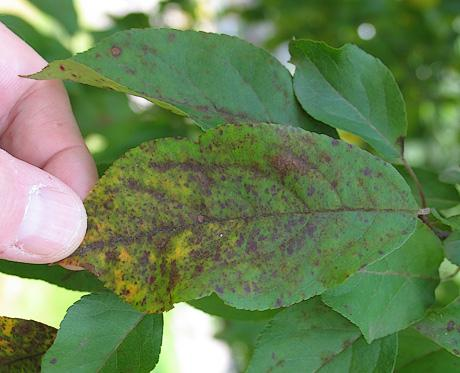Apple Scab Leaf: (69, 125, 418, 311)
